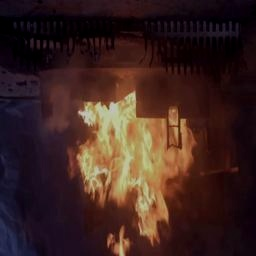fire: (59, 93, 205, 256)
